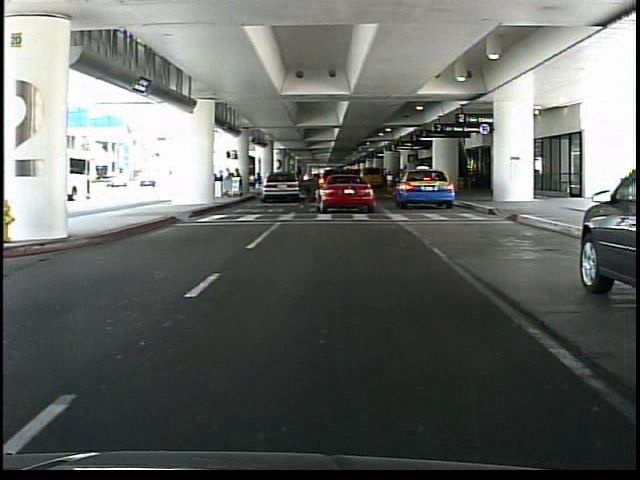person: (293, 165, 307, 201)
